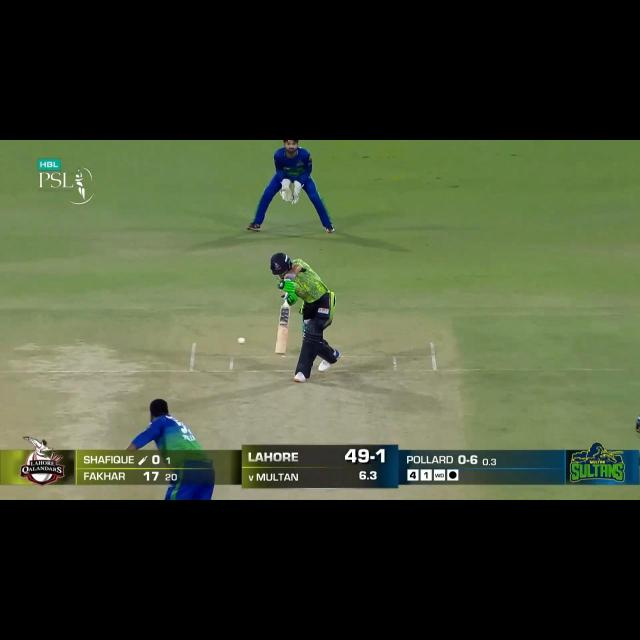bat: (272, 305, 293, 356)
toe: (271, 341, 288, 356)
